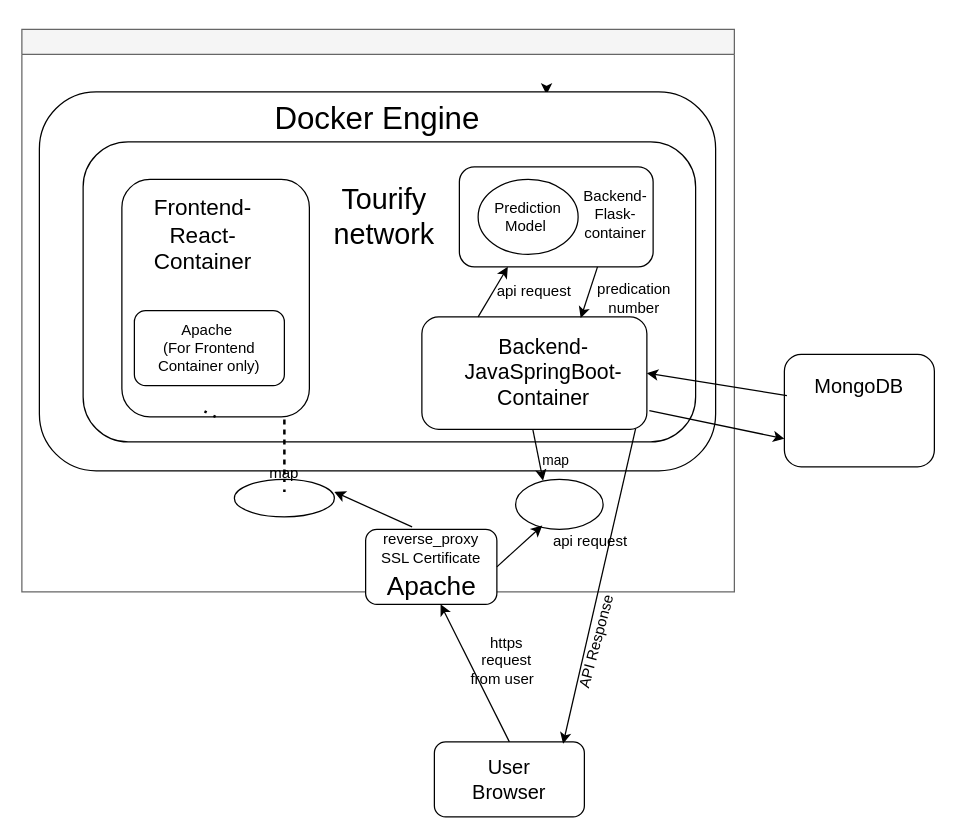
This 956x839 diagram has some shape labels left out. Each missing label, with the box of its shape:
port:1088: (233, 478, 334, 517)
port:8001: (514, 478, 603, 529)
UCD Linux Server: (21, 28, 734, 592)
